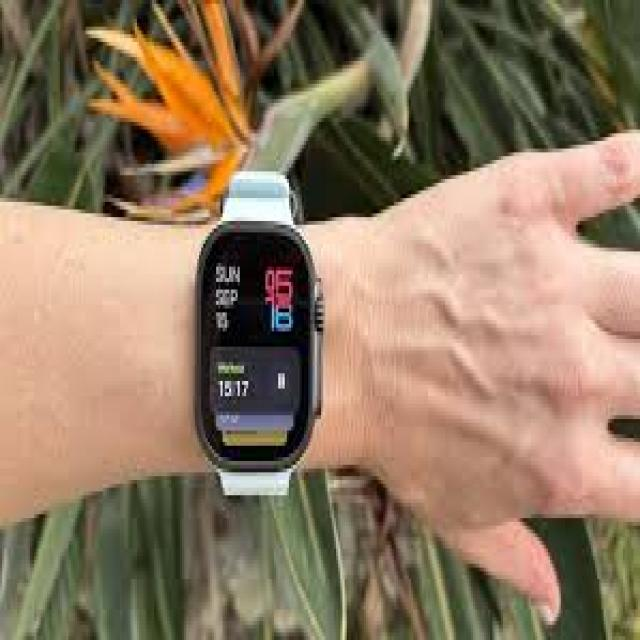objects: (189, 156, 328, 498)
